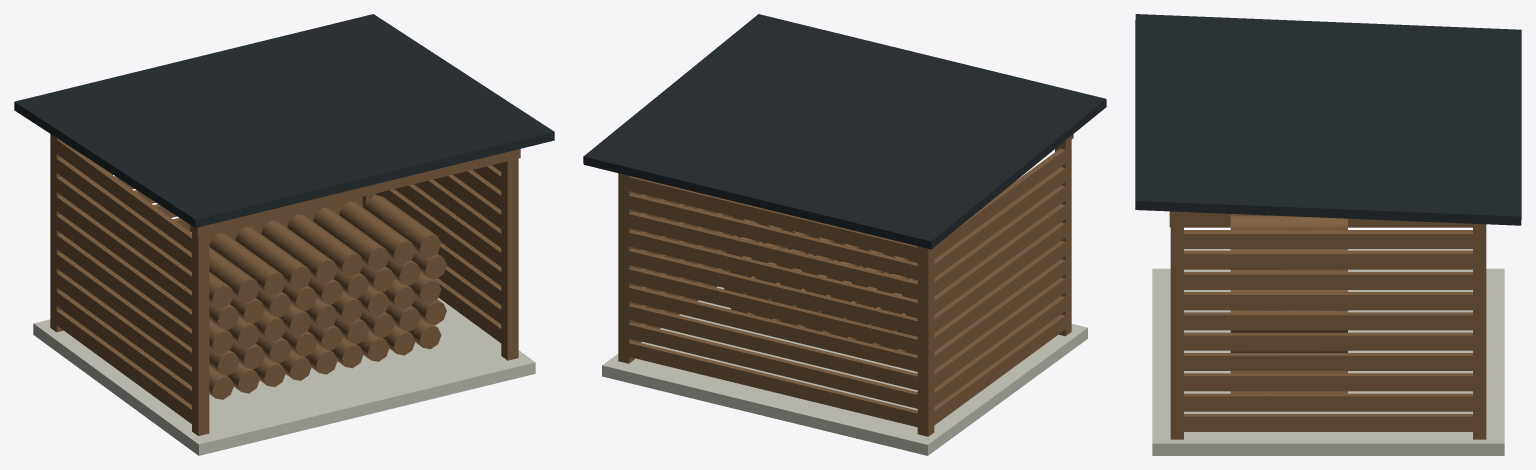
Rendered from woodshed.glb.
3 renders of one model, left to right at view 1: azimuth 30°, elevation 25°; view 2: azimuth 150°, elevation 25°; view 3: azimuth 270°, elevation 25°, orthographic. The views are drawn at different scales.
Visible parts, largest first — view 1: OutdoorTimber, BuildingDetail, NeutralFacade; view 2: OutdoorTimber, BuildingDetail, NeutralFacade; view 3: BuildingDetail, OutdoorTimber, NeutralFacade.
Boxes of the visible parts, x1,y1,x2,y2 form: OutdoorTimber: (50,134,520,435); BuildingDetail: (14,14,554,227); NeutralFacade: (33,297,535,455); OutdoorTimber: (618,134,1073,436); BuildingDetail: (583,14,1106,249); NeutralFacade: (602,286,1087,455); BuildingDetail: (1135,14,1521,225); OutdoorTimber: (1169,211,1486,439); NeutralFacade: (1152,268,1504,455).
Size of the model in its own units: 3.95 by 2.57 by 3.45.
